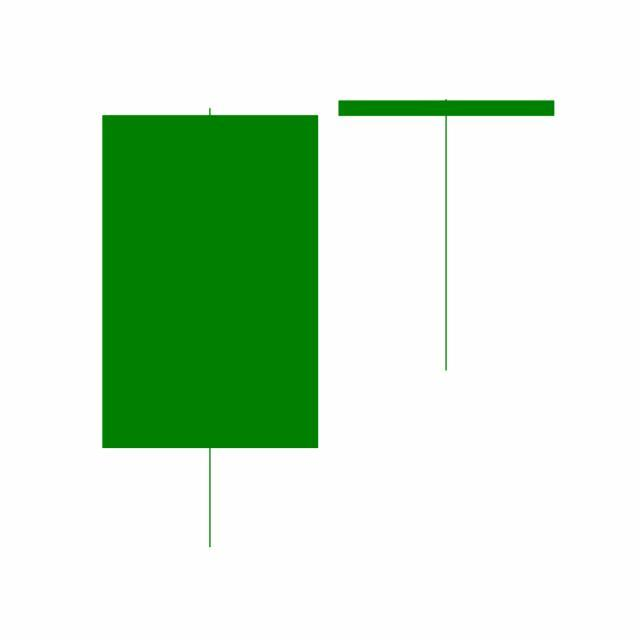Hanging Man: (328, 97, 566, 375)
